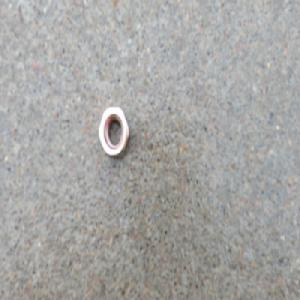Nut: (96, 107, 129, 162)
